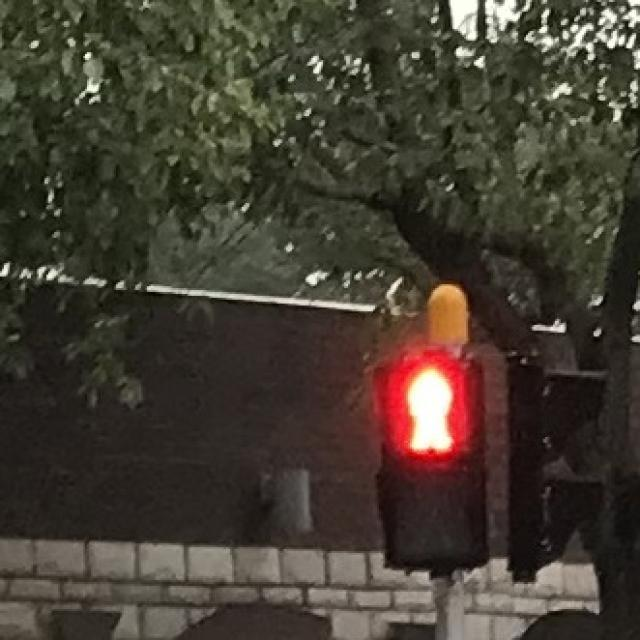red-crossing: (390, 354, 470, 466)
